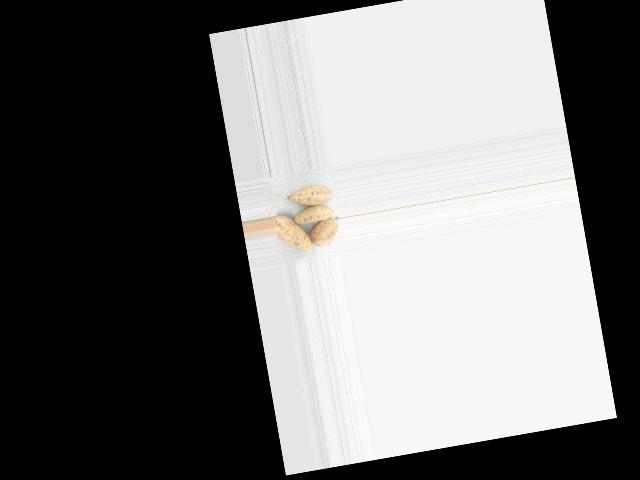sweet_potato: (270, 205, 314, 261)
